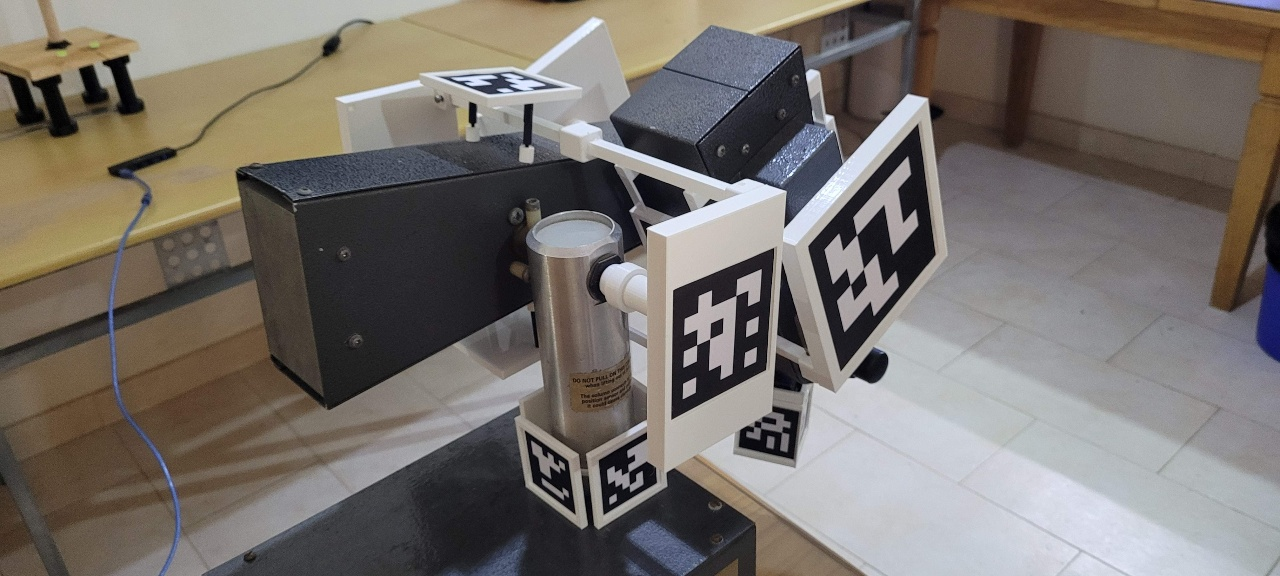Robot: (234, 15, 950, 531)
